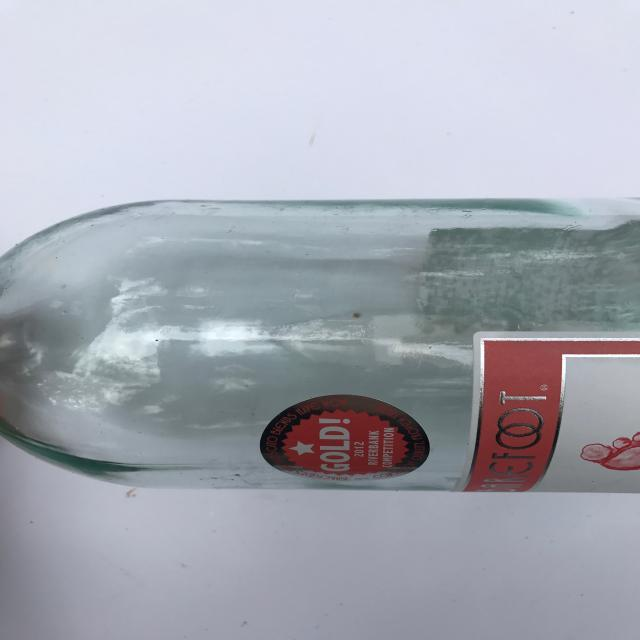glass: (1, 198, 640, 490)
